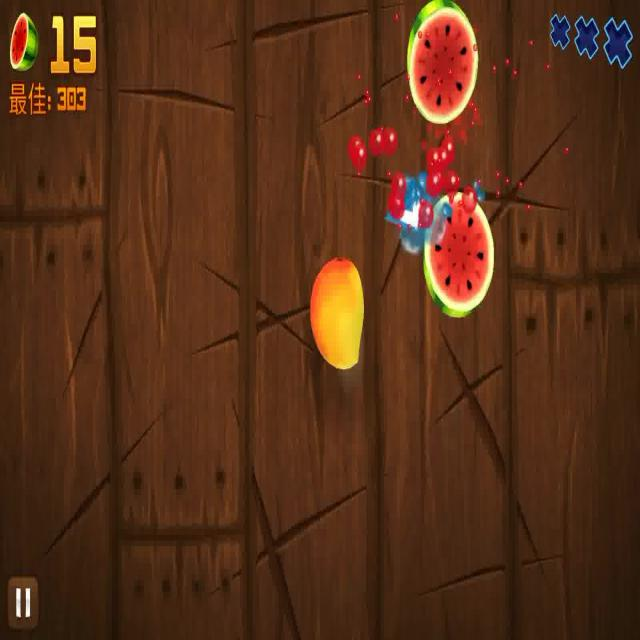fruit: (305, 248, 370, 380)
